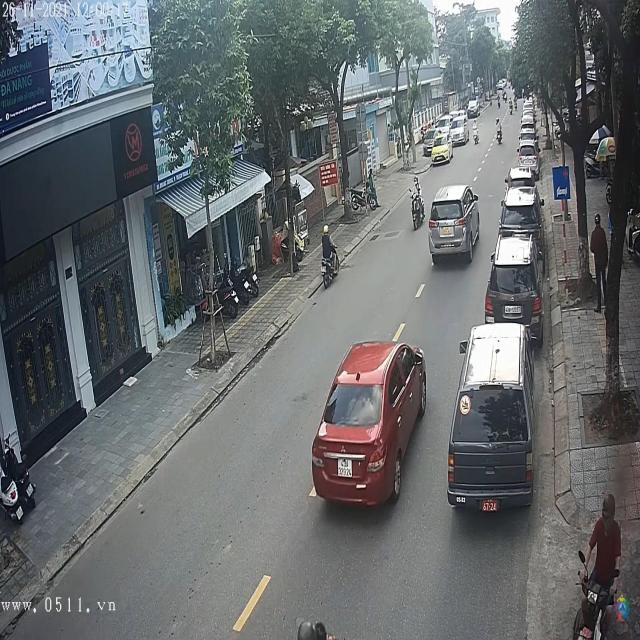car: (311, 336, 428, 508), (449, 325, 534, 513), (486, 234, 542, 333), (428, 184, 482, 264), (499, 190, 544, 237), (506, 166, 538, 190), (516, 130, 536, 150), (468, 99, 482, 117)
motorcycle: (321, 245, 341, 292), (412, 193, 424, 231)
